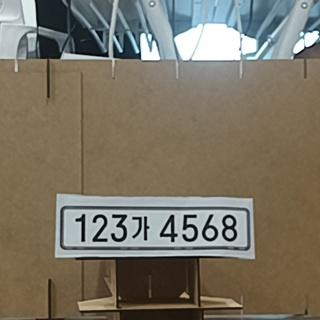normal: (60, 206, 251, 250)
